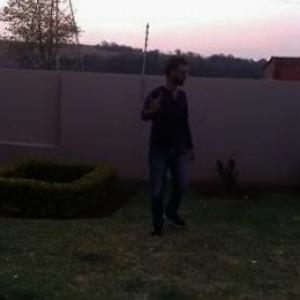takeoff-hand: (140, 84, 166, 116)
